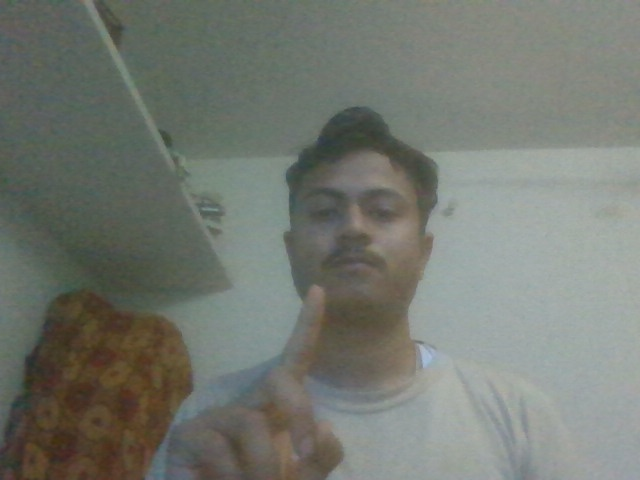No: (201, 277, 348, 480)
